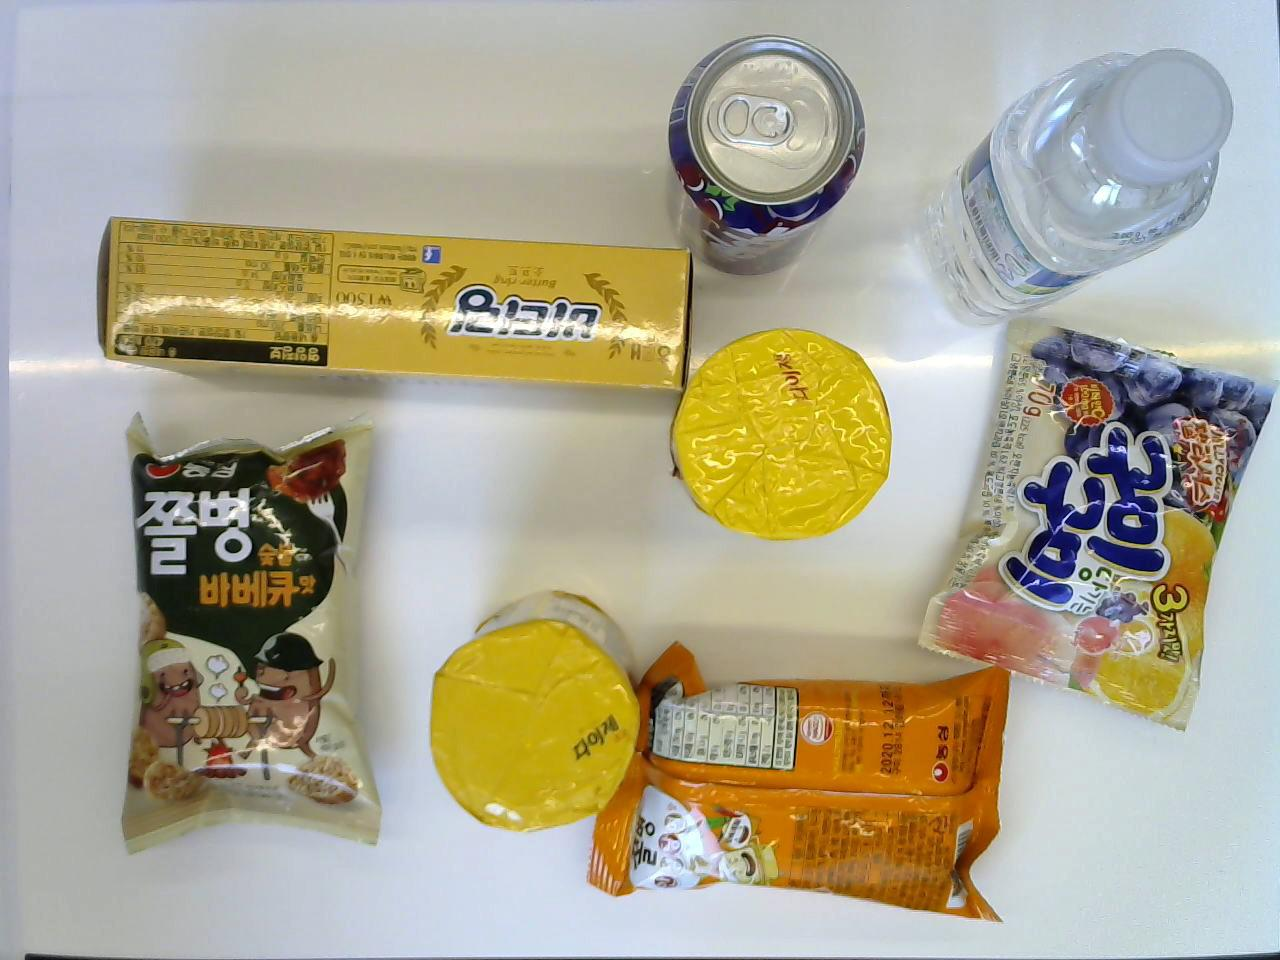buttering: (93, 213, 695, 394)
diget_choco: (668, 324, 892, 542)
diget_ori: (426, 579, 659, 834)
gumi_gumi: (920, 309, 1272, 734)
jjolbyung_noodle: (583, 636, 1014, 926)
jjolbyung_ori: (114, 405, 398, 862)
samdasu: (913, 41, 1236, 323)
welchs: (662, 29, 867, 275)
